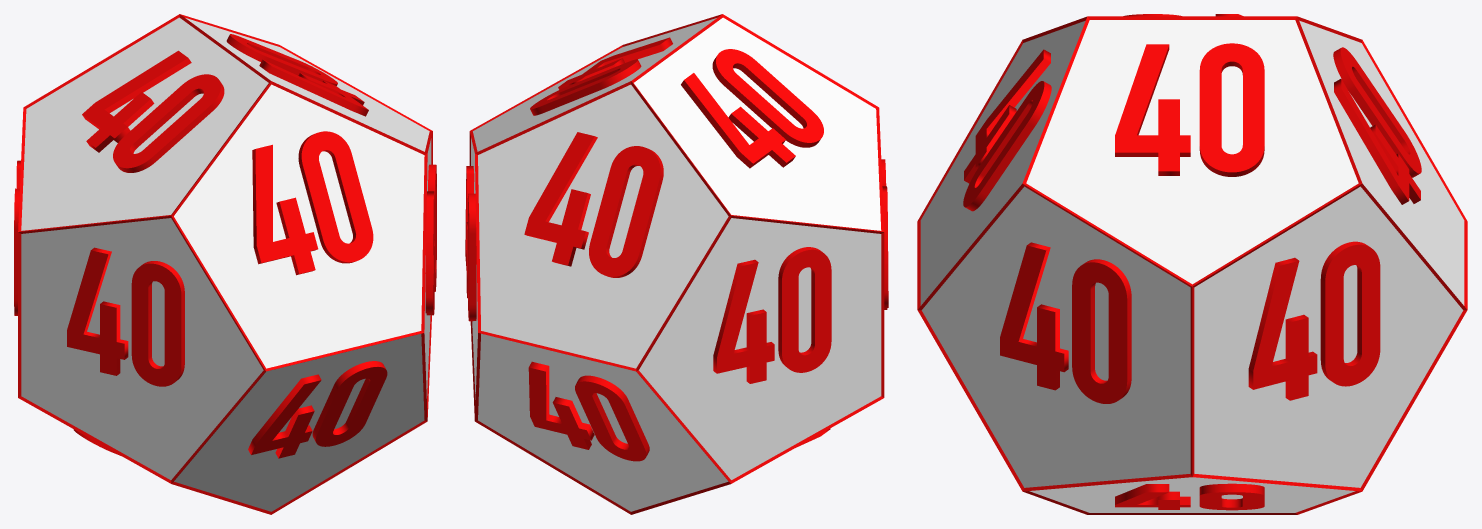
The model's file is dodecahedron_sign-40.glb.
The picture shows the model from 3 angles, left to right: view 1: azimuth 30°, elevation 25°; view 2: azimuth 150°, elevation 25°; view 3: azimuth 270°, elevation 25°; orthographic projection. The views are drawn at different scales.
Parts seen in each view (by area): view 1: Dodecahedron_Solid, Text20_5, Text20_11, Dodecahedron_Wire, Text20_7, Text20_10, Text20_2, Text20_6, Text20_8; view 2: Dodecahedron_Solid, Text20_0, Text20_8, Dodecahedron_Wire, Text20_7, Text20_3, Text20_2, Text20_1, Text20_11; view 3: Dodecahedron_Solid, Dodecahedron_Wire, Text20_1, Text20_6, Text20_2, Text20_0, Text20_5, Text20_4.
Part boxes in pixels (x1,y1,x2,y2): Dodecahedron_Solid: (21, 17, 431, 511); Text20_5: (252, 131, 373, 275); Text20_11: (67, 247, 184, 386); Dodecahedron_Wire: (18, 14, 432, 514); Text20_7: (82, 50, 224, 172); Text20_10: (248, 361, 387, 458); Text20_2: (226, 34, 368, 116); Text20_6: (425, 164, 436, 315); Text20_8: (14, 160, 20, 315); Dodecahedron_Solid: (471, 17, 881, 511); Text20_0: (524, 132, 663, 277); Text20_8: (713, 247, 831, 383); Dodecahedron_Wire: (469, 14, 884, 514); Text20_7: (681, 49, 823, 168); Text20_3: (528, 361, 649, 461); Text20_2: (530, 37, 672, 115); Text20_1: (465, 166, 476, 321); Text20_11: (881, 159, 888, 309); Dodecahedron_Solid: (920, 20, 1464, 512); Dodecahedron_Wire: (917, 16, 1467, 514); Text20_1: (1248, 241, 1380, 400); Text20_6: (1000, 242, 1131, 403); Text20_2: (1115, 43, 1264, 176); Text20_0: (1333, 47, 1421, 204); Text20_5: (963, 49, 1051, 211); Text20_4: (1115, 483, 1264, 510).
Size of the model in its own units: 3.26 by 3.26 by 3.26.
